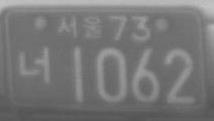0: (95, 45, 128, 104)
1: (65, 44, 92, 103)
2: (163, 46, 197, 105)
3: (128, 13, 152, 42)
6: (130, 46, 161, 104)
7: (105, 13, 128, 41)
너: (16, 45, 52, 84)
서울_O: (56, 13, 104, 39)
